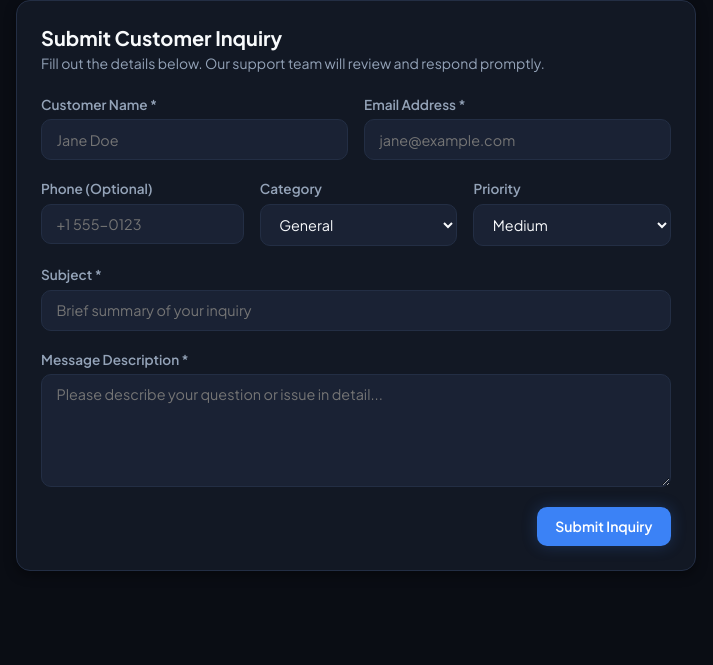
Test case: InquiryForm Component › displays client-side validation errors when required fields are missing
The image size is (713, 665).
Click the button "Submit Inquiry". click: point(604, 526)
box: [537,507,671,546]
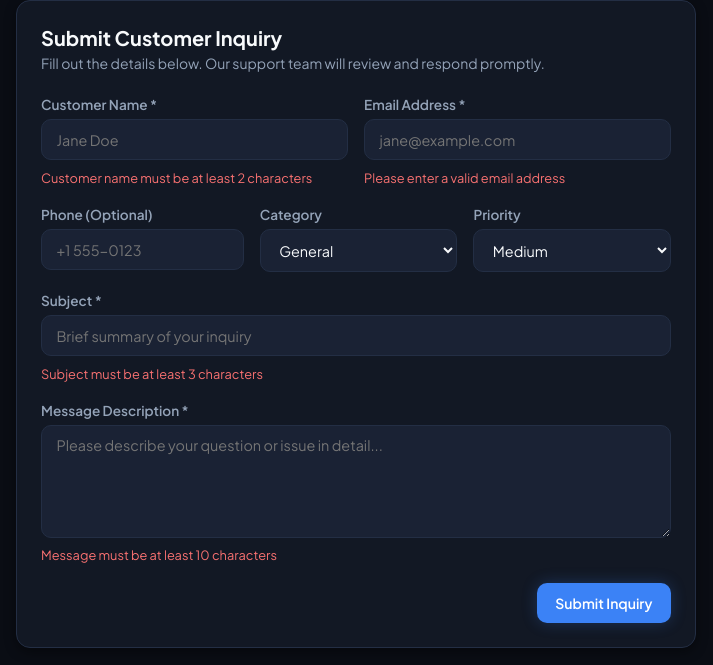
Expected: the text "Customer name must be at least 2 characters" is shown, [41,170,348,186]
Expected: the text "Please enter a valid email address" is shown, [364,170,565,186]
Expected: the text "Subject must be at least 3 characters" is shown, [41,366,263,382]
